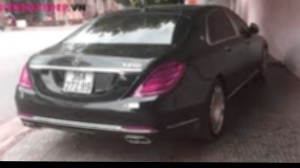Bien-so: (66, 74, 97, 98)
